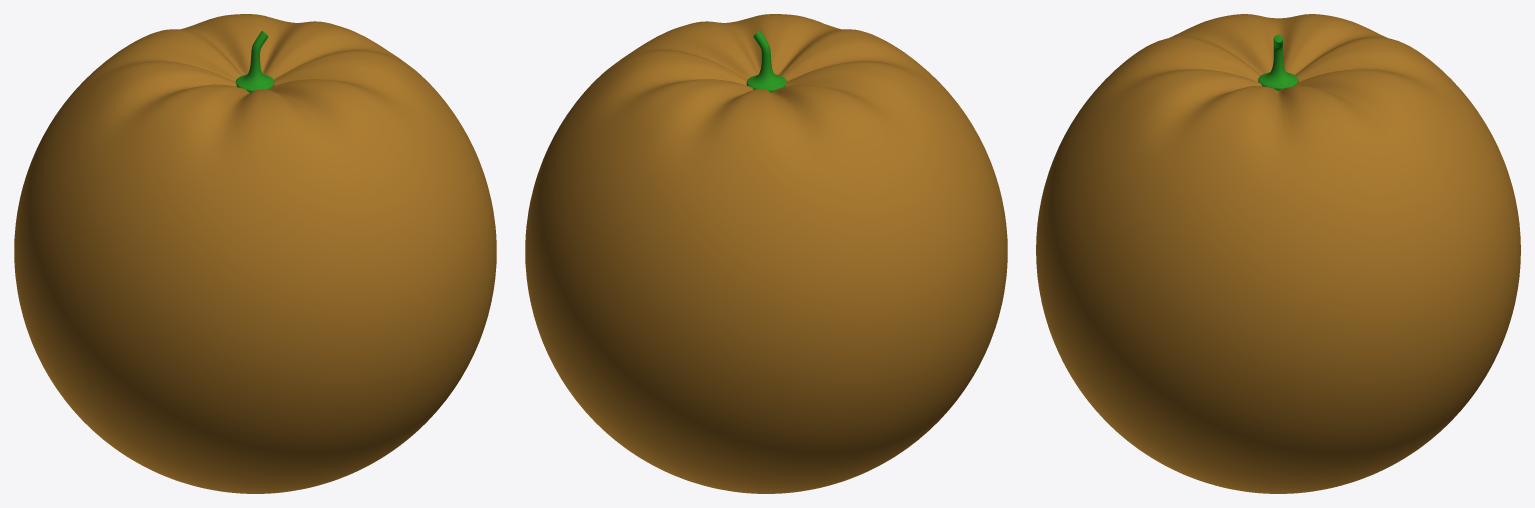
File: orange_fruit.glb
3 renders of one model, left to right at view 1: azimuth 30°, elevation 25°; view 2: azimuth 150°, elevation 25°; view 3: azimuth 270°, elevation 25°, orthographic.
Visible parts, largest first — view 1: Sphere, Cylinder; view 2: Sphere, Cylinder; view 3: Sphere, Cylinder.
Boxes of the visible parts, bbox=[...] form: Sphere: bbox=[14, 14, 496, 493]; Cylinder: bbox=[235, 31, 274, 92]; Sphere: bbox=[525, 14, 1007, 493]; Cylinder: bbox=[746, 31, 786, 92]; Sphere: bbox=[1036, 14, 1520, 493]; Cylinder: bbox=[1258, 34, 1298, 90].
Bounding box in the file's own units: 1.97 × 1.98 × 1.97.
